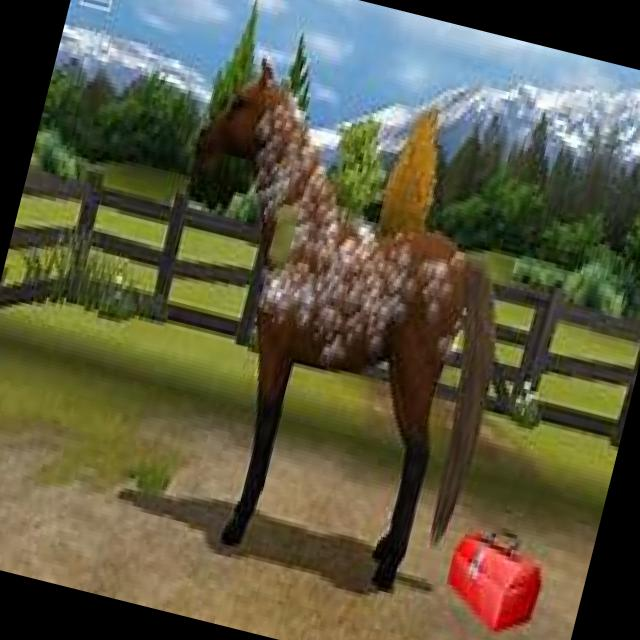animal: (67, 42, 582, 640)
